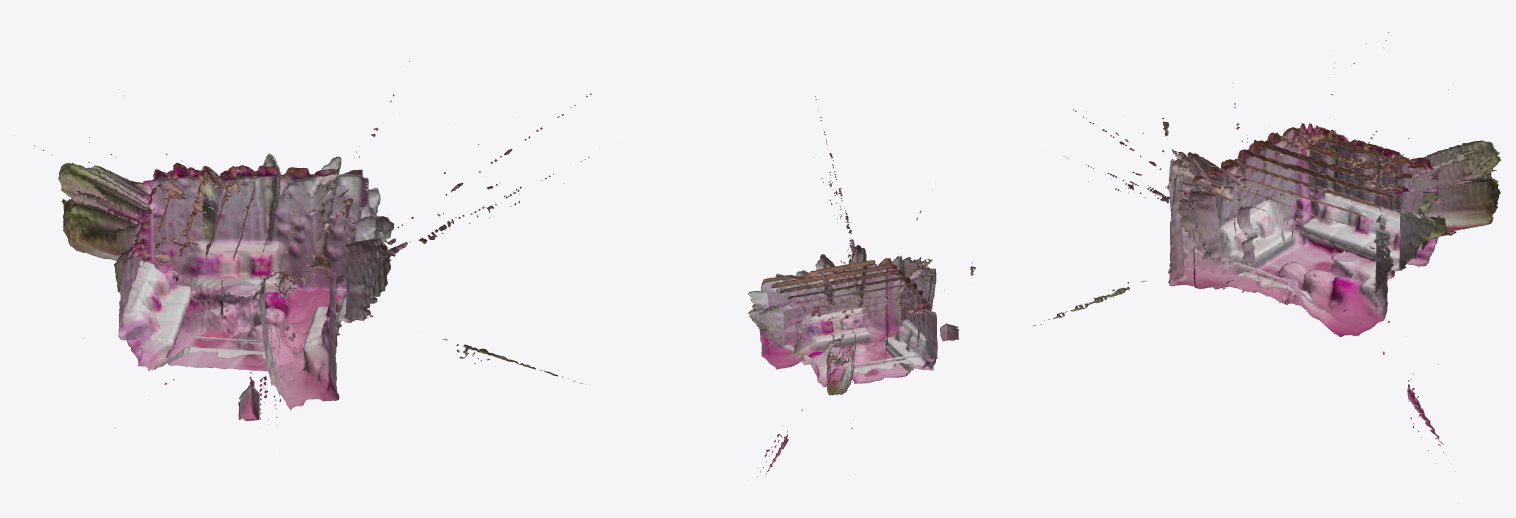
Rendered from twinkle-butterfly-patio-1-1-7_collider.glb.
3 views of the same model, side by side, from view 1: azimuth 30°, elevation 25°; view 2: azimuth 150°, elevation 25°; view 3: azimuth 270°, elevation 25° (orthographic). The views are drawn at different scales.
Visible parts, largest first — view 1: world; view 2: world; view 3: world.
Boxes of the visible parts, <box> form: world: <box>34,61,591,428</box>; world: <box>748,96,975,479</box>; world: <box>1032,32,1500,471</box>.
Size of the model in its own units: 10.72 by 12.67 by 11.18.
